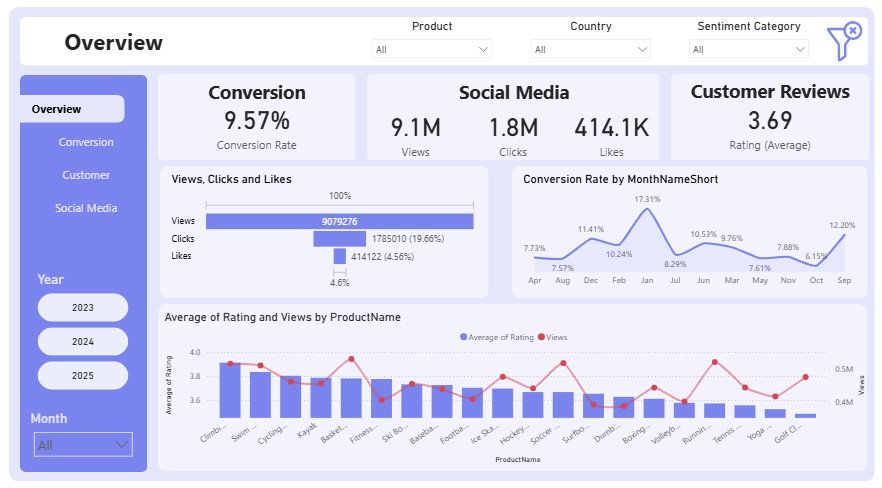

This screenshot's page, from the dashboard's own definition file:
{"tool":"powerbi","page":{"name":"Overview","canvas":[1280,720],"ordinal":0},"visuals":[{"type":"shape","box":[16.7,18.3,1246.7,683.3],"z":0},{"type":"shape","box":[33.3,33.3,1221.7,70],"z":1000},{"type":"shape","box":[33.3,116.7,183.3,571.7],"z":2000},{"type":"textbox","box":[33.3,40,270,56.7],"z":3000},{"type":"advancedSlicerVisual","fields":{"Values":["Calendar.Year"]},"box":[53.3,398.3,141.7,178.3],"z":4000},{"type":"slicer","title":"Month","fields":{"Values":["Calendar.Date.Variation.Date Hierarchy.Month"]},"box":[43.3,598.3,161.7,68.3],"z":5000},{"type":"actionButton","box":[16.7,145,166.7,40],"z":6000},{"type":"actionButton","box":[16.7,240,166.7,40],"z":7000},{"type":"actionButton","box":[16.7,288.3,166.7,40],"z":8000},{"type":"actionButton","box":[16.7,193.3,166.7,40],"z":9000},{"type":"image","box":[1186.7,33.3,68.3,70],"z":10000},{"type":"shape","box":[970,115.7,285.7,124.3],"z":11000},{"type":"shape","box":[231.4,115.7,284.3,124.3],"z":12000},{"type":"shape","box":[532.9,115.7,421.4,124.3],"z":13000},{"type":"textbox","box":[231.2,116.2,285,56.2],"z":14000},{"type":"card","fields":{"Values":["_Calculations.Rating (Average)"]},"box":[970,145.7,285.7,87.1],"z":15000},{"type":"textbox","box":[533.8,116.2,421.2,56.2],"z":16000},{"type":"textbox","box":[970,115.7,285.7,57.1],"z":17000},{"type":"card","fields":{"Values":["_Calculations.Conversion Rate"]},"box":[231.4,145.7,284.3,87.1],"z":18000},{"type":"card","fields":{"Values":["_Calculations.Views"]},"box":[534.3,157.1,137.1,82.9],"z":19000},{"type":"card","fields":{"Values":["_Calculations.Clicks"]},"box":[671.4,157.1,144.3,82.9],"z":20000},{"type":"card","fields":{"Values":["_Calculations.Likes"]},"box":[815.7,157.1,140,82.9],"z":21000},{"type":"shape","box":[232,447,1021,241],"z":22000},{"type":"lineClusteredColumnComboChart","fields":{"Category":["dim_products.ProductName"],"Y":["Avg(fact_customer_reviews.Rating)"],"Y2":["_Calculations.Views"]},"box":[235.5,454.5,1020,226.4],"z":23000},{"type":"shape","box":[741.7,248.3,512,190.6],"z":24000,"group":"g1"},{"type":"group","id":"g1","title":"Group 1","box":[741.7,248.3,513.3,190],"z":24000},{"type":"lineChart","fields":{"Y":["_Calculations.Conversion Rate"],"Category":["Calendar.MonthNameShort"]},"box":[752.7,256.4,488.8,173.3],"z":25000,"group":"g1"},{"type":"shape","box":[235,248.3,473.3,190],"z":25000},{"type":"funnel","fields":{"Y":["_Calculations.Views","_Calculations.Clicks","_Calculations.Likes"]},"box":[246.7,256.7,450,173.3],"z":26000},{"type":"slicer","title":"Product","fields":{"Values":["dim_products.ProductName"]},"box":[530,36.7,193.3,65],"z":27000},{"type":"slicer","title":"Sentiment Category","fields":{"Values":["fact_customer_reviews_with_sentiment.SentimentCategory"]},"box":[986.7,36.7,193.3,65],"z":28000},{"type":"slicer","title":"Country","fields":{"Values":["dim_customers.Country"]},"box":[758.3,36.7,193.3,65],"z":29000}]}

Visuals, with their boxes in screenshot pixels (x1, y1, x2, y2), scaled from the page's 1280x720 canvas onto the 882x488 screenshot:
shape: rect(12, 12, 871, 476)
shape: rect(23, 23, 865, 70)
shape: rect(23, 79, 149, 467)
textbox: rect(23, 27, 209, 66)
advancedSlicerVisual - Calendar.Year: rect(37, 270, 134, 391)
"Month" slicer: rect(30, 406, 141, 452)
actionButton: rect(12, 98, 126, 125)
actionButton: rect(12, 163, 126, 190)
actionButton: rect(12, 195, 126, 223)
actionButton: rect(12, 131, 126, 158)
image: rect(818, 23, 865, 70)
shape: rect(668, 78, 865, 163)
shape: rect(159, 78, 355, 163)
shape: rect(367, 78, 658, 163)
textbox: rect(159, 79, 356, 117)
card - _Calculations.Rating (Average): rect(668, 99, 865, 158)
textbox: rect(368, 79, 658, 117)
textbox: rect(668, 78, 865, 117)
card - _Calculations.Conversion Rate: rect(159, 99, 355, 158)
card - _Calculations.Views: rect(368, 106, 463, 163)
card - _Calculations.Clicks: rect(463, 106, 562, 163)
card - _Calculations.Likes: rect(562, 106, 659, 163)
shape: rect(160, 303, 863, 466)
lineClusteredColumnComboChart - dim_products.ProductName x Avg(fact_customer_reviews.Rating): rect(162, 308, 865, 461)
shape: rect(511, 168, 864, 297)
"Group 1" group: rect(511, 168, 865, 297)
lineChart - _Calculations.Conversion Rate x Calendar.MonthNameShort: rect(519, 174, 855, 291)
shape: rect(162, 168, 488, 297)
funnel - _Calculations.Views x _Calculations.Clicks: rect(170, 174, 480, 291)
"Product" slicer: rect(365, 25, 498, 69)
"Sentiment Category" slicer: rect(680, 25, 813, 69)
"Country" slicer: rect(523, 25, 656, 69)
